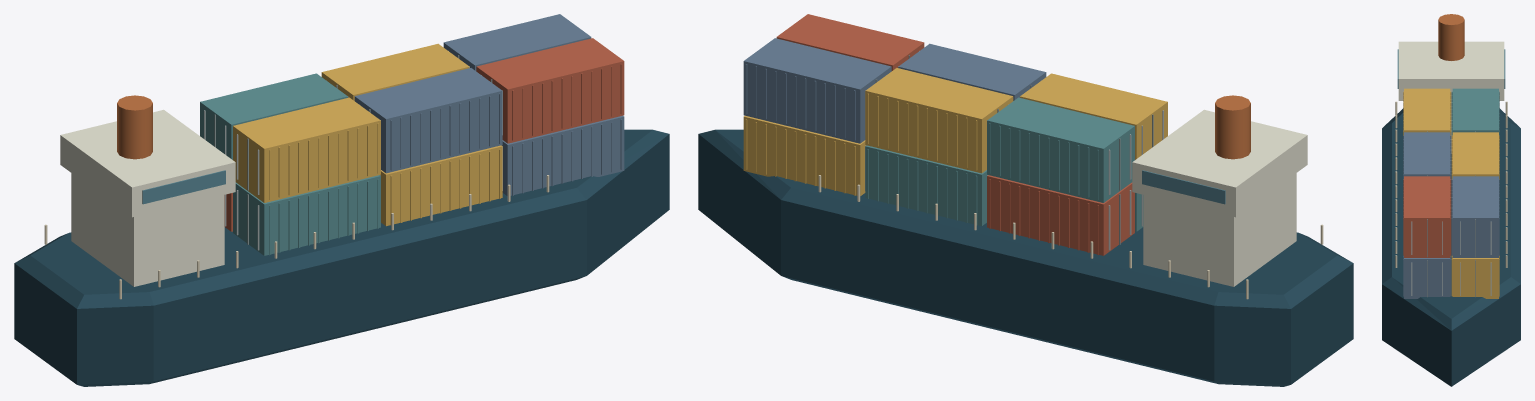
The model's file is container-ship.glb.
3 renders of one model, left to right at view 1: azimuth 30°, elevation 25°; view 2: azimuth 150°, elevation 25°; view 3: azimuth 270°, elevation 25°, orthographic. The views are drawn at different scales.
Parts seen in each view (by area): view 1: container-ship (×14); view 2: container-ship (×14); view 3: container-ship (×11).
Part boxes in pixels (left/top/right/bottom): container-ship (×14): left=14, top=14, right=669, bottom=386; container-ship (×14): left=698, top=14, right=1353, bottom=386; container-ship (×11): left=1382, top=14, right=1520, bottom=386.
Bounding box in the file's own units: 24.09 × 9.05 × 6.3.
